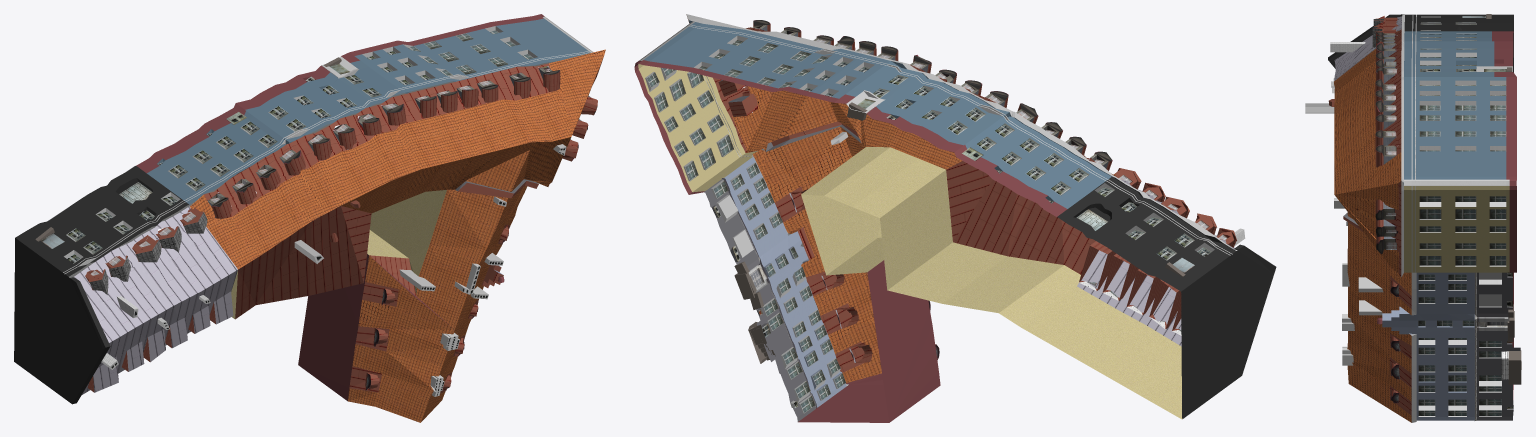
The model's file is Vene_13-origo.obj.
The picture shows the model from 3 angles, left to right: view 1: azimuth 30°, elevation 25°; view 2: azimuth 150°, elevation 25°; view 3: azimuth 270°, elevation 25°; orthographic projection. The views are drawn at different scales.
Parts seen in each view (by area): view 1: Vene_13; view 2: Vene_13; view 3: Vene_13.
Boxes of the visible parts, bbox=[...] form: Vene_13: bbox=[14, 14, 605, 422]; Vene_13: bbox=[634, 14, 1276, 422]; Vene_13: bbox=[1305, 14, 1521, 422].
Bounding box in the file's own units: 65.75 × 37.5 × 22.61.
